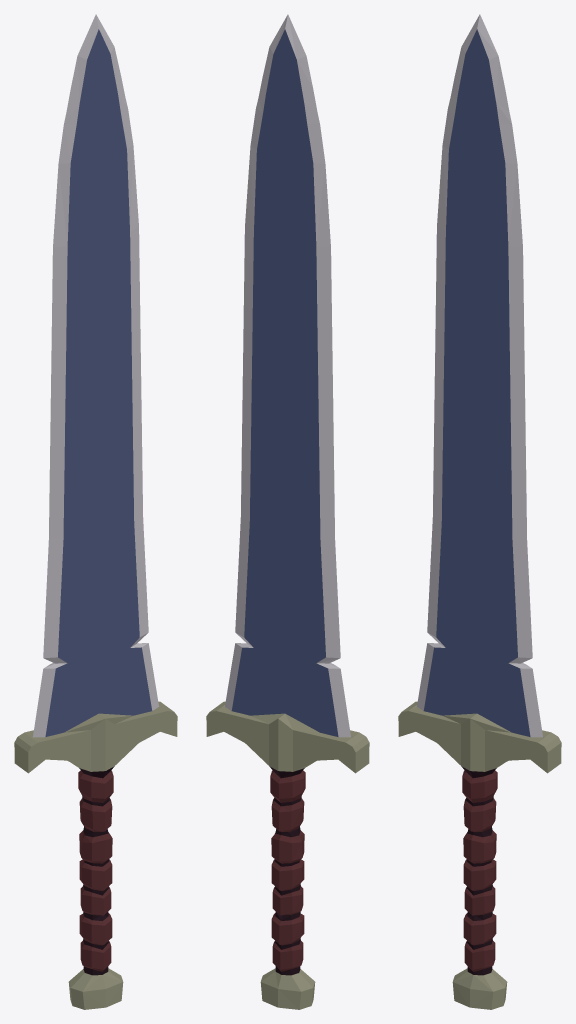
File: sword_big.glb
The picture shows the model from 3 angles, left to right: view 1: azimuth 30°, elevation 25°; view 2: azimuth 150°, elevation 25°; view 3: azimuth 330°, elevation 25°; orthographic projection.
Visible parts, largest first — view 1: Sword_big; view 2: Sword_big; view 3: Sword_big.
Part boxes in pixels (bbox=[...]): Sword_big: bbox=[14, 14, 177, 1009]; Sword_big: bbox=[206, 14, 369, 1009]; Sword_big: bbox=[398, 14, 561, 1009].
Bounding box in the file's own units: 43.31 × 273 × 10.13.
